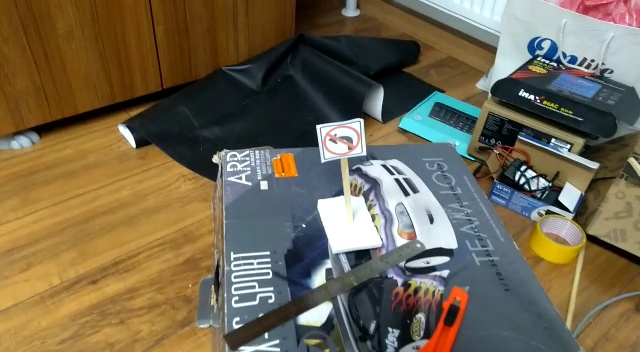sola_donulmez: (323, 122, 363, 156)
